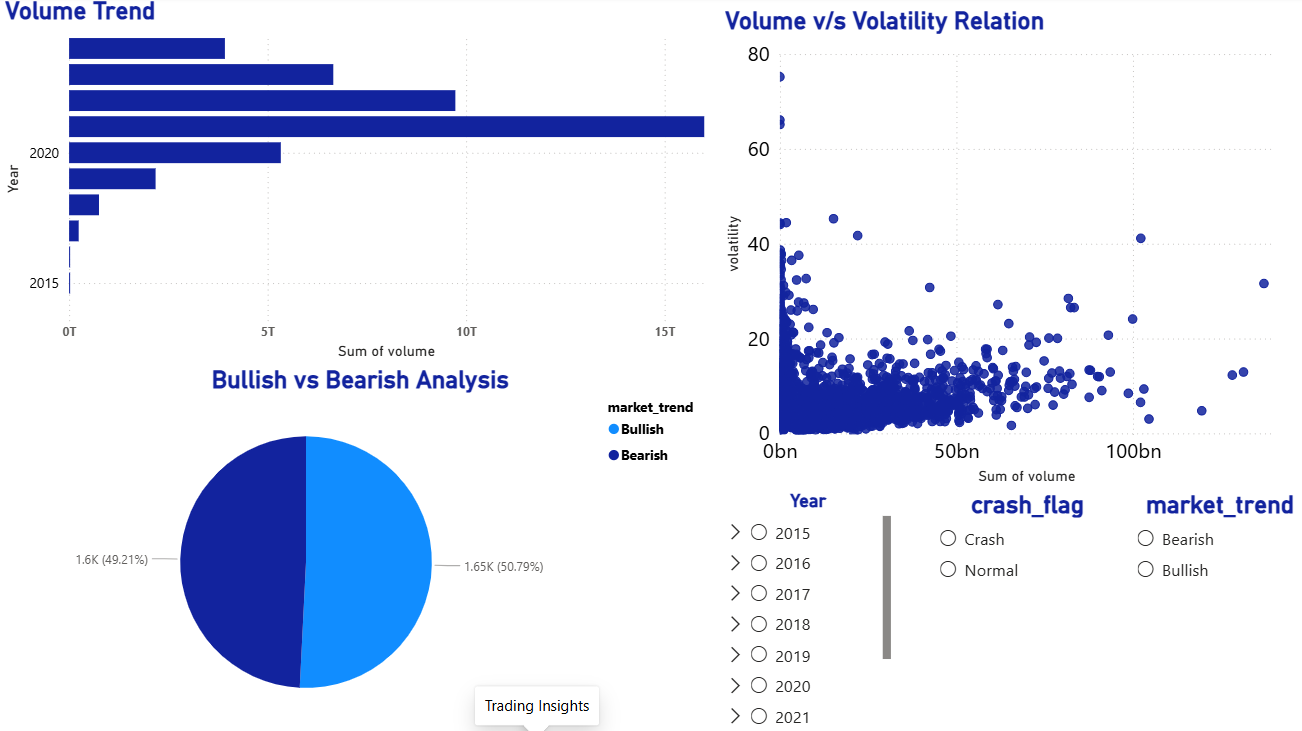

Layout of this report page (visuals, bound fields, positions):
{"tool":"powerbi","page":{"name":"Trading Insights","canvas":[1280,720],"ordinal":2},"visuals":[{"type":"clusteredBarChart","title":"Volume Trend","fields":{"Category":["cleaned_crypto_data.start_date.Variation.Date Hierarchy.Year","cleaned_crypto_data.start_date.Variation.Date Hierarchy.Day"],"Y":["Sum(cleaned_crypto_data.volume)"]},"box":[0,0,705.2,360.6],"z":0},{"type":"pieChart","title":"Bullish vs Bearish Analysis","fields":{"Category":["cleaned_crypto_data.market_trend"],"Y":["CountNonNull(cleaned_crypto_data.market_trend)"]},"box":[0,360.6,705.2,359.4],"z":1000},{"type":"scatterChart","title":"Volume v/s Volatility Relation","fields":{"X":["Sum(cleaned_crypto_data.volume)"],"Y":["cleaned_crypto_data.volatility"]},"box":[704.7,9.9,575.3,473.1],"z":2000},{"type":"listSlicer","fields":{"Values":["cleaned_crypto_data.start_date.Variation.Date Hierarchy.Year","cleaned_crypto_data.start_date.Variation.Date Hierarchy.Quarter","cleaned_crypto_data.start_date.Variation.Date Hierarchy.Month","cleaned_crypto_data.start_date.Variation.Date Hierarchy.Day"]},"box":[704.7,482.9,172.5,236.5],"z":3000},{"type":"listSlicer","fields":{"Values":["cleaned_crypto_data.market_trend"]},"box":[1106.3,482.9,173.7,236.5],"z":4000},{"type":"listSlicer","fields":{"Values":["cleaned_crypto_data.crash_flag"]},"box":[912.9,482.9,183.6,236.5],"z":5000}]}

Visuals, with their boxes in screenshot pixels (x1, y1, x2, y2), scaled from the page's 1280x720 canvas onto the 1302x731 screenshot:
"Volume Trend" clusteredBarChart: pyautogui.locateOnScreen(0, 0, 717, 366)
"Bullish vs Bearish Analysis" pieChart: pyautogui.locateOnScreen(0, 366, 717, 730)
"Volume v/s Volatility Relation" scatterChart: pyautogui.locateOnScreen(717, 10, 1301, 490)
listSlicer - cleaned_crypto_data.start_date.Variation.Date Hierarchy.Year x cleaned_crypto_data.start_date.Variation.Date Hierarchy.Quarter: pyautogui.locateOnScreen(717, 490, 892, 730)
listSlicer - cleaned_crypto_data.market_trend: pyautogui.locateOnScreen(1125, 490, 1301, 730)
listSlicer - cleaned_crypto_data.crash_flag: pyautogui.locateOnScreen(929, 490, 1115, 730)
